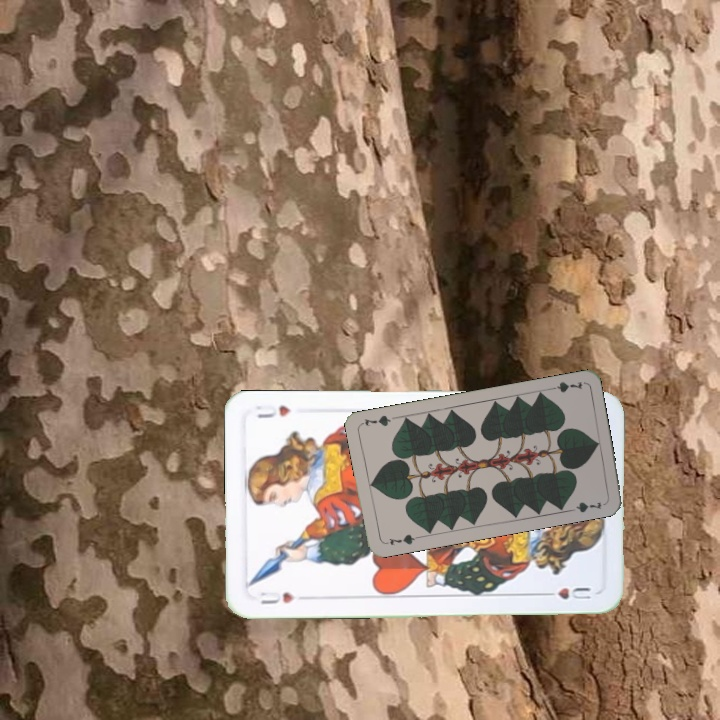G7: (544, 377, 585, 395), (381, 530, 421, 548)
HU: (255, 587, 297, 607)
